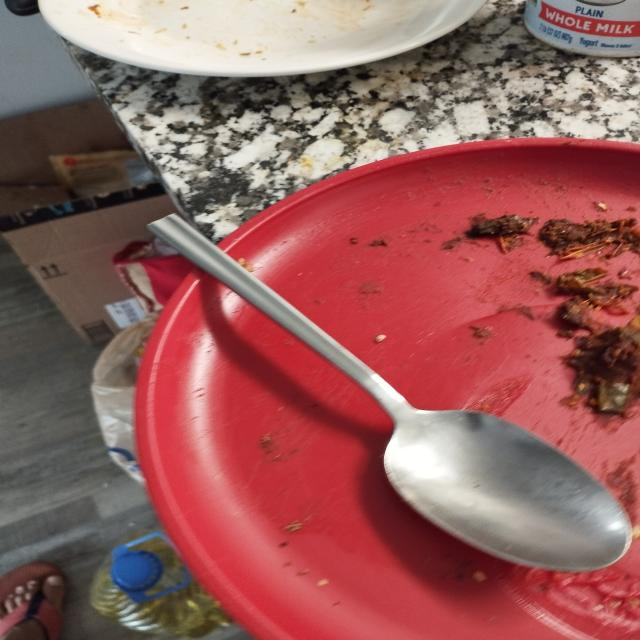Spoon: (117, 198, 640, 586)
